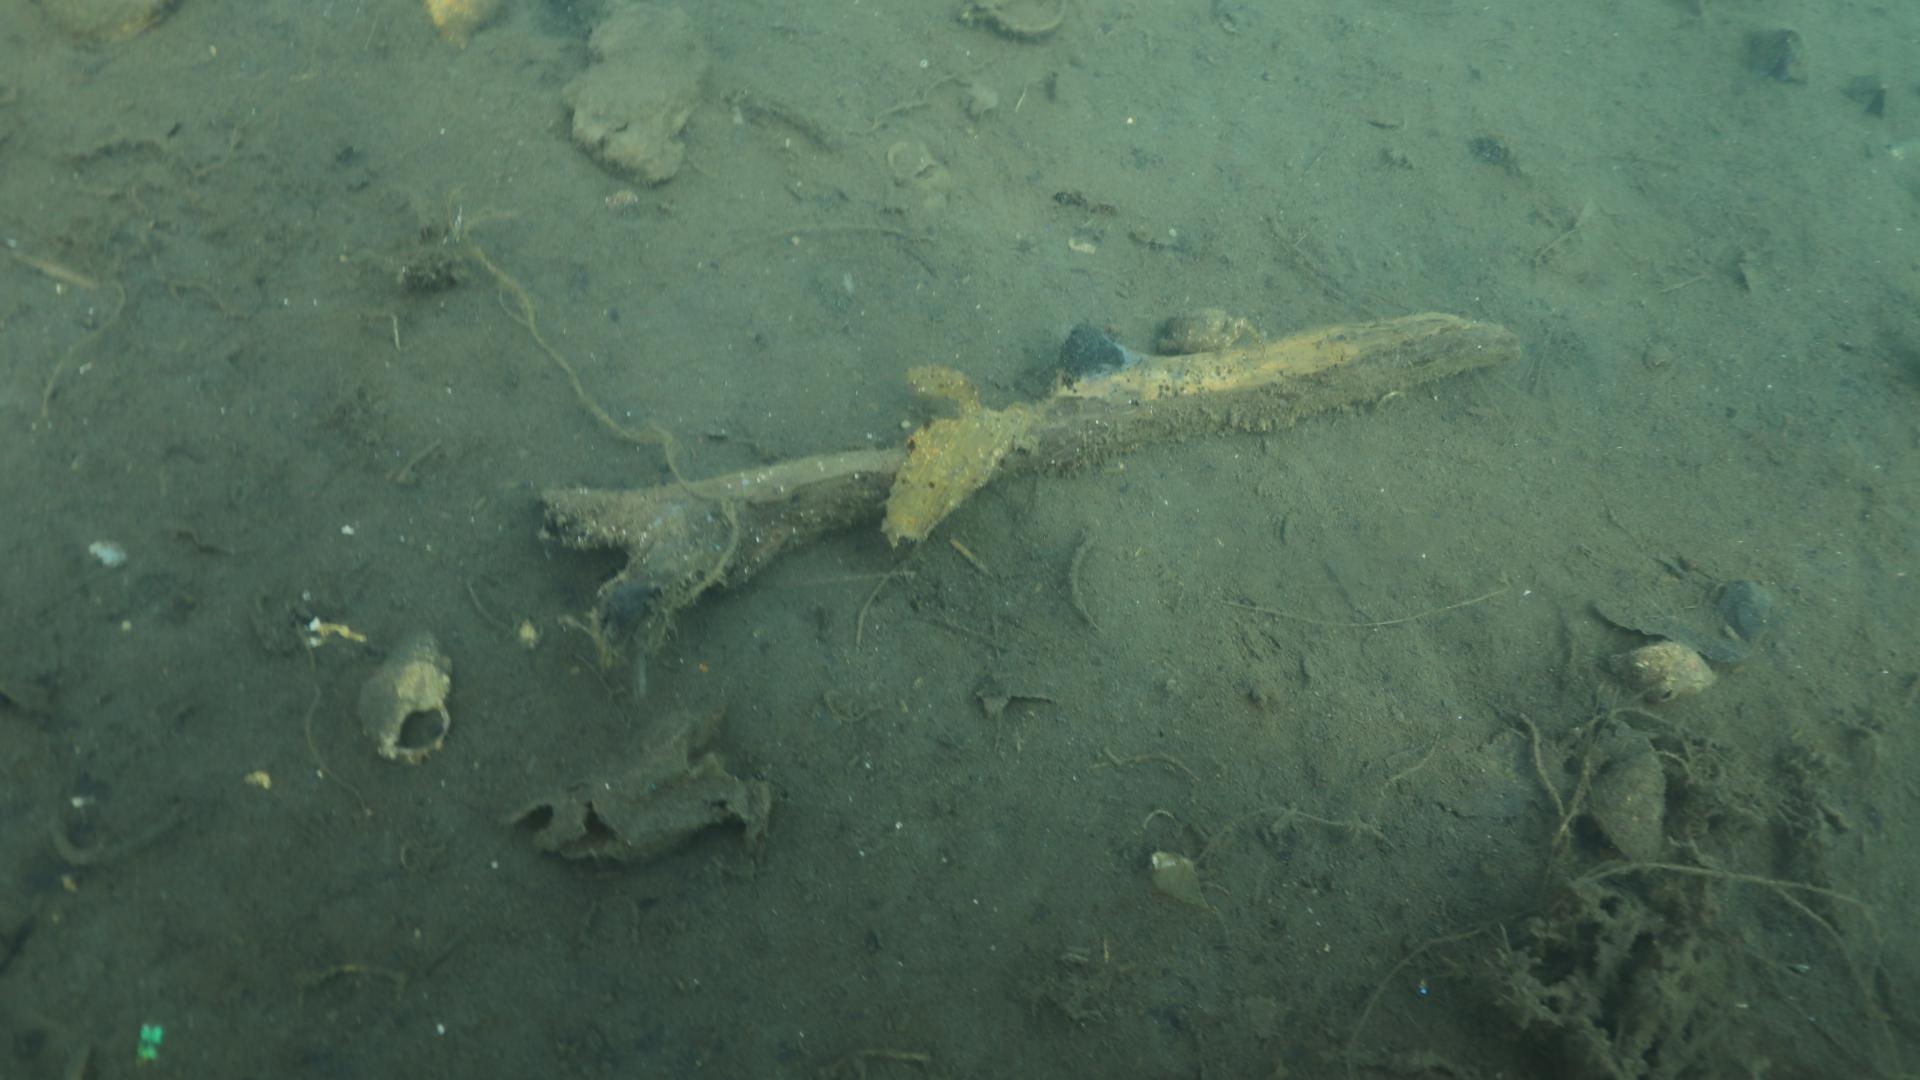wood: (534, 307, 1516, 630)
